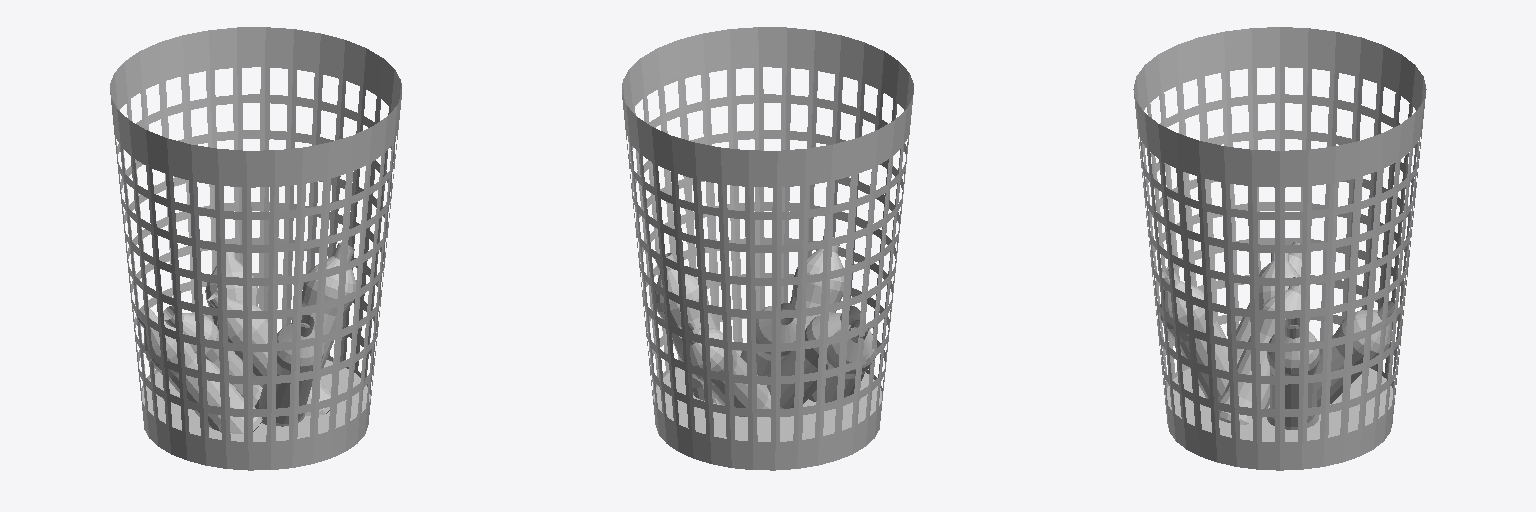
The model's file is DustbinWithCan_000037.obj.
3 views of the same model, side by side, from view 1: azimuth 30°, elevation 25°; view 2: azimuth 150°, elevation 25°; view 3: azimuth 270°, elevation 25° (orthographic).
Parts seen in each view (by area): view 1: Cylinder, Plane.005, Plane.001, Plane.003, Plane.004, Plane.006, Plane.002; view 2: Cylinder, Plane.002, Plane.006, Plane.003, Plane.005, Plane.001, Plane.004; view 3: Cylinder, Plane.001, Plane.004, Plane.003, Plane.002, Plane.006, Plane.005.
Part boxes in pixels (bbox=[...]): Cylinder: bbox=[110, 27, 401, 470]; Plane.005: bbox=[135, 307, 262, 433]; Plane.001: bbox=[255, 315, 323, 426]; Plane.003: bbox=[291, 243, 355, 368]; Plane.004: bbox=[208, 291, 330, 415]; Plane.006: bbox=[163, 306, 262, 406]; Plane.002: bbox=[205, 252, 258, 325]; Cylinder: bbox=[622, 27, 913, 470]; Plane.002: bbox=[679, 323, 770, 416]; Plane.006: bbox=[766, 306, 860, 408]; Plane.003: bbox=[655, 253, 719, 403]; Plane.005: bbox=[809, 321, 876, 402]; Plane.001: bbox=[790, 236, 843, 329]; Plane.004: bbox=[740, 303, 796, 375]; Cylinder: bbox=[1133, 27, 1426, 470]; Plane.001: bbox=[1160, 269, 1238, 399]; Plane.004: bbox=[1218, 277, 1300, 424]; Plane.003: bbox=[1267, 318, 1319, 429]; Plane.002: bbox=[1317, 301, 1394, 406]; Plane.006: bbox=[1259, 253, 1299, 308]; Plane.005: bbox=[1236, 242, 1301, 359].
Bounding box in the file's own units: 2.6 × 3.27 × 2.6.